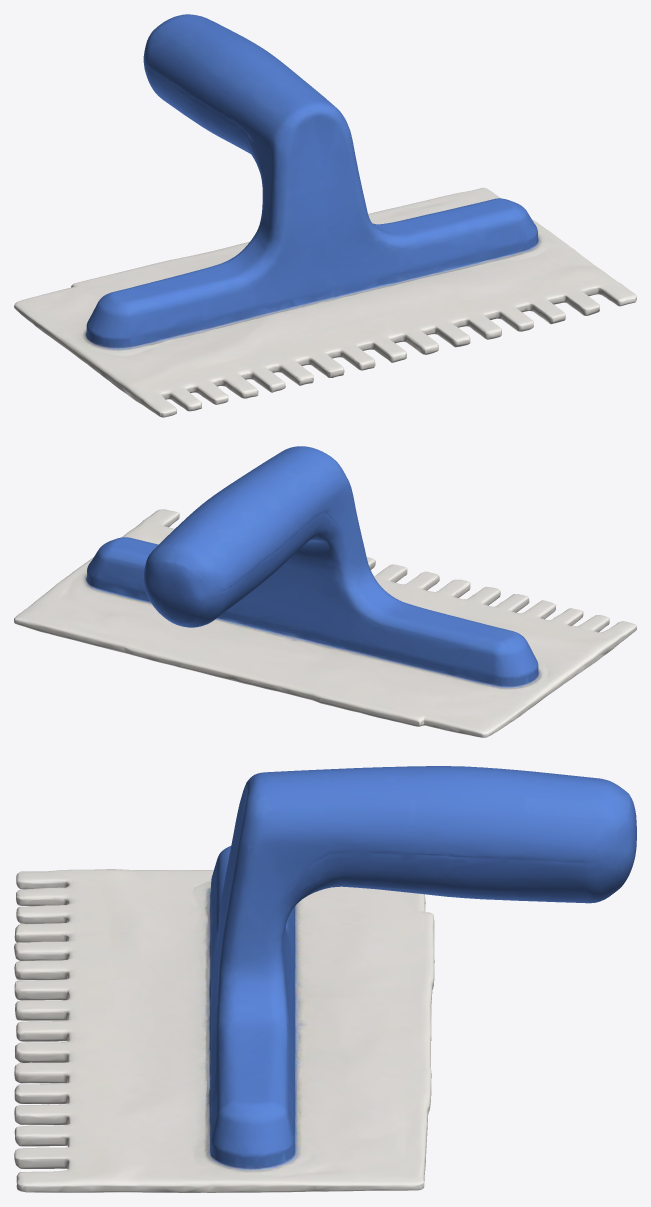
Rendered from notched-trowel.glb.
3 views of the same model, one above another, from view 1: azimuth 30°, elevation 25°; view 2: azimuth 150°, elevation 25°; view 3: azimuth 270°, elevation 25° (orthographic). The views are drawn at different scales.
Parts seen in each view (by area): view 1: tripo_node_e5340d04-99f3-4f9d-9c94-2781690380cf; view 2: tripo_node_e5340d04-99f3-4f9d-9c94-2781690380cf; view 3: tripo_node_e5340d04-99f3-4f9d-9c94-2781690380cf.
Boxes of the visible parts, left/top/right/bottom form: tripo_node_e5340d04-99f3-4f9d-9c94-2781690380cf: left=14, top=14, right=636, bottom=417; tripo_node_e5340d04-99f3-4f9d-9c94-2781690380cf: left=14, top=446, right=636, bottom=737; tripo_node_e5340d04-99f3-4f9d-9c94-2781690380cf: left=14, top=766, right=636, bottom=1192.
Size of the model in its own units: 1 by 0.3935 by 0.8348.
Materials: 1 (1 with a texture image).
